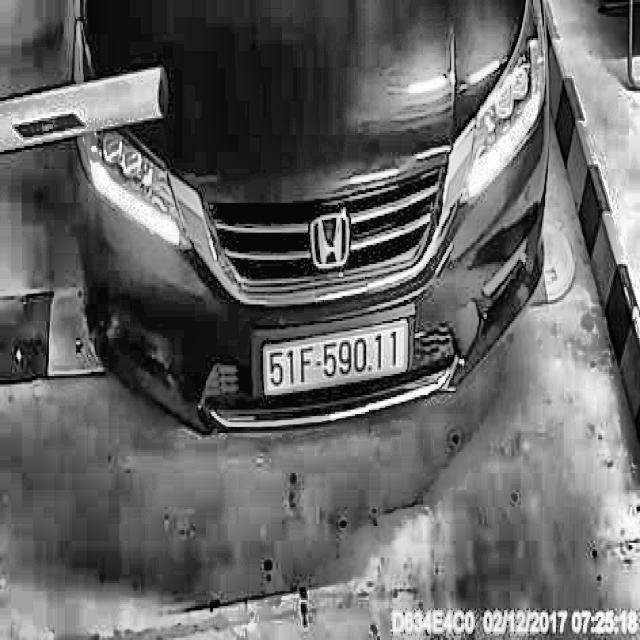plate: (262, 313, 412, 402)
